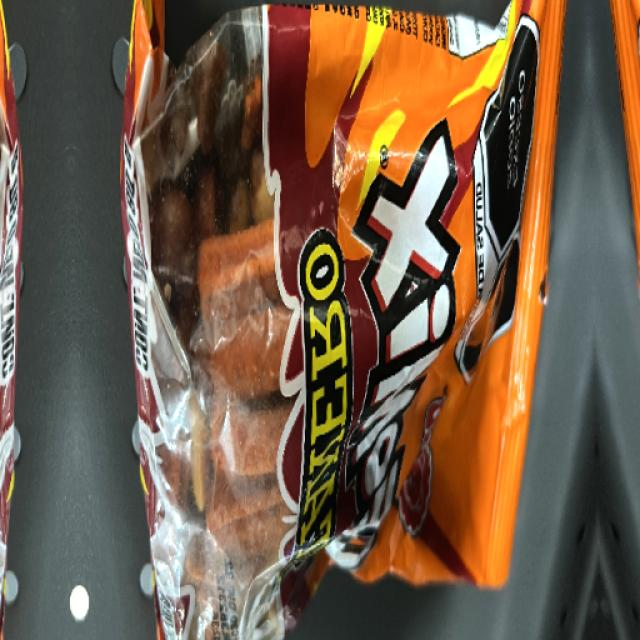leoMix: (146, 6, 520, 588)
